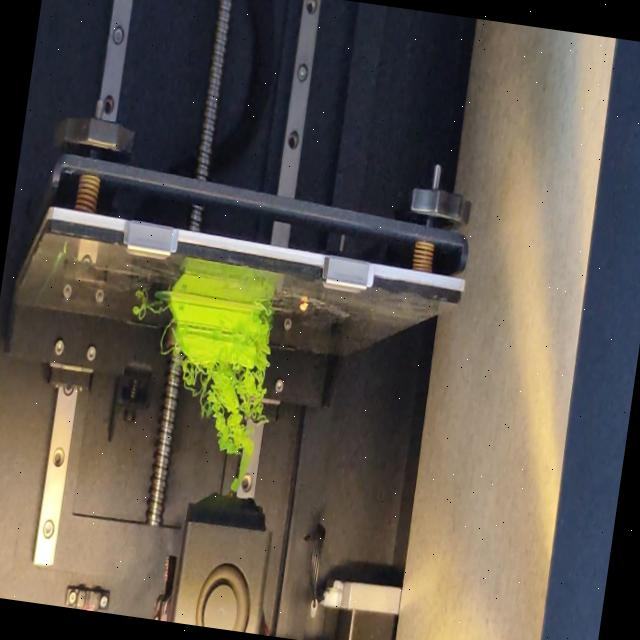spaghetti: (163, 348, 270, 496), (256, 299, 278, 360), (132, 294, 166, 322), (157, 316, 178, 358)
